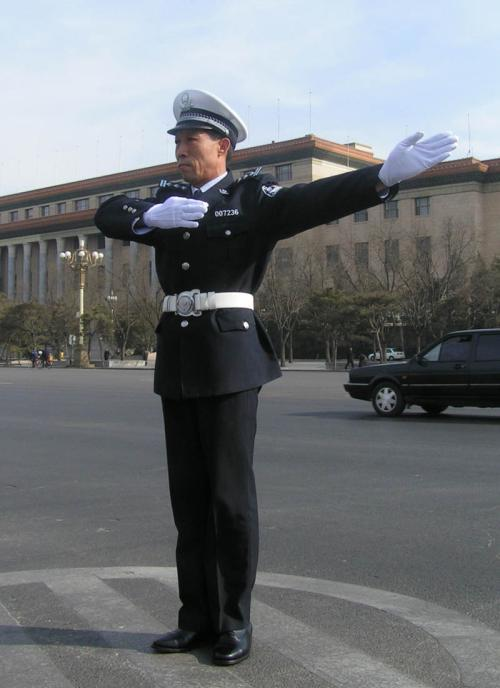up: (90, 96, 458, 668)
